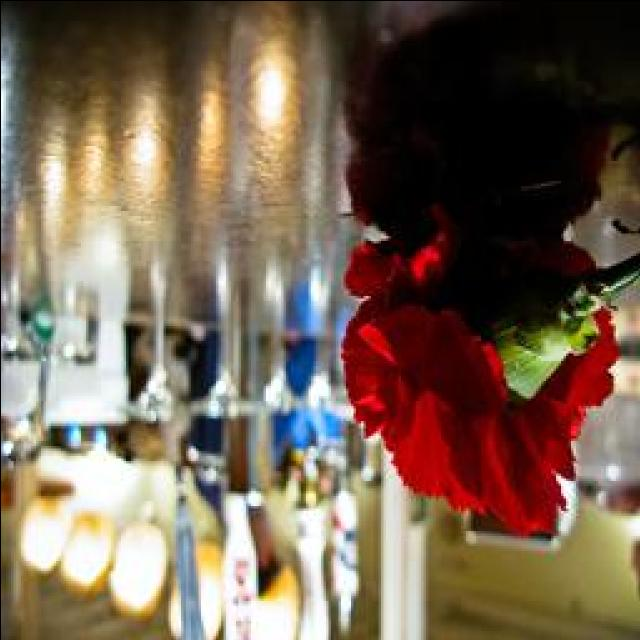carnation: (332, 208, 632, 546)
